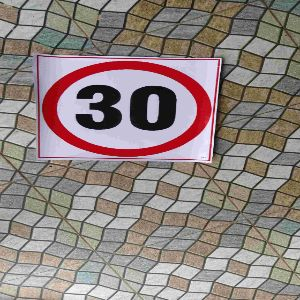speedlimit30: (36, 56, 215, 160)
